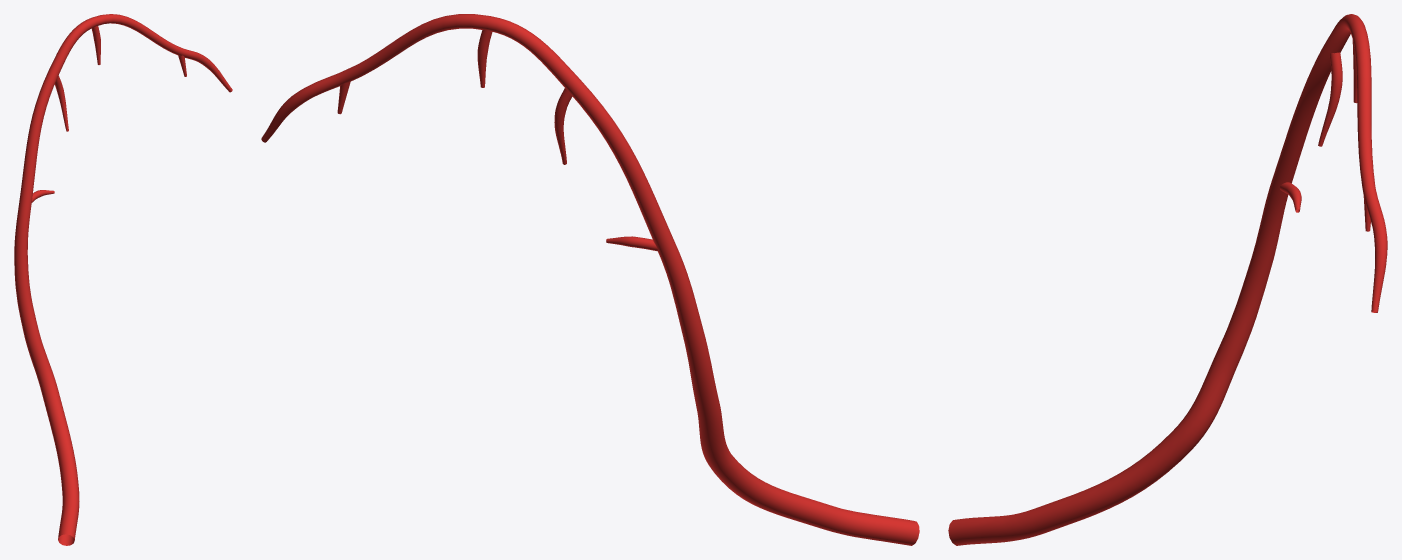
File: circulatorio-inferior-suprarenal-artery-l.glb
3 renders of one model, left to right at view 1: azimuth 30°, elevation 25°; view 2: azimuth 150°, elevation 25°; view 3: azimuth 270°, elevation 25°, orthographic. The views are drawn at different scales.
Visible parts, largest first — view 1: Inferior suprarenal artery.l; view 2: Inferior suprarenal artery.l; view 3: Inferior suprarenal artery.l.
Boxes of the visible parts, x1=… form: Inferior suprarenal artery.l: x1=14, y1=14, x2=232, y2=545; Inferior suprarenal artery.l: x1=261, y1=14, x2=919, y2=545; Inferior suprarenal artery.l: x1=948, y1=14, x2=1387, y2=545.
Size of the model in its own units: 0.0497 by 0.0629 by 0.039.
